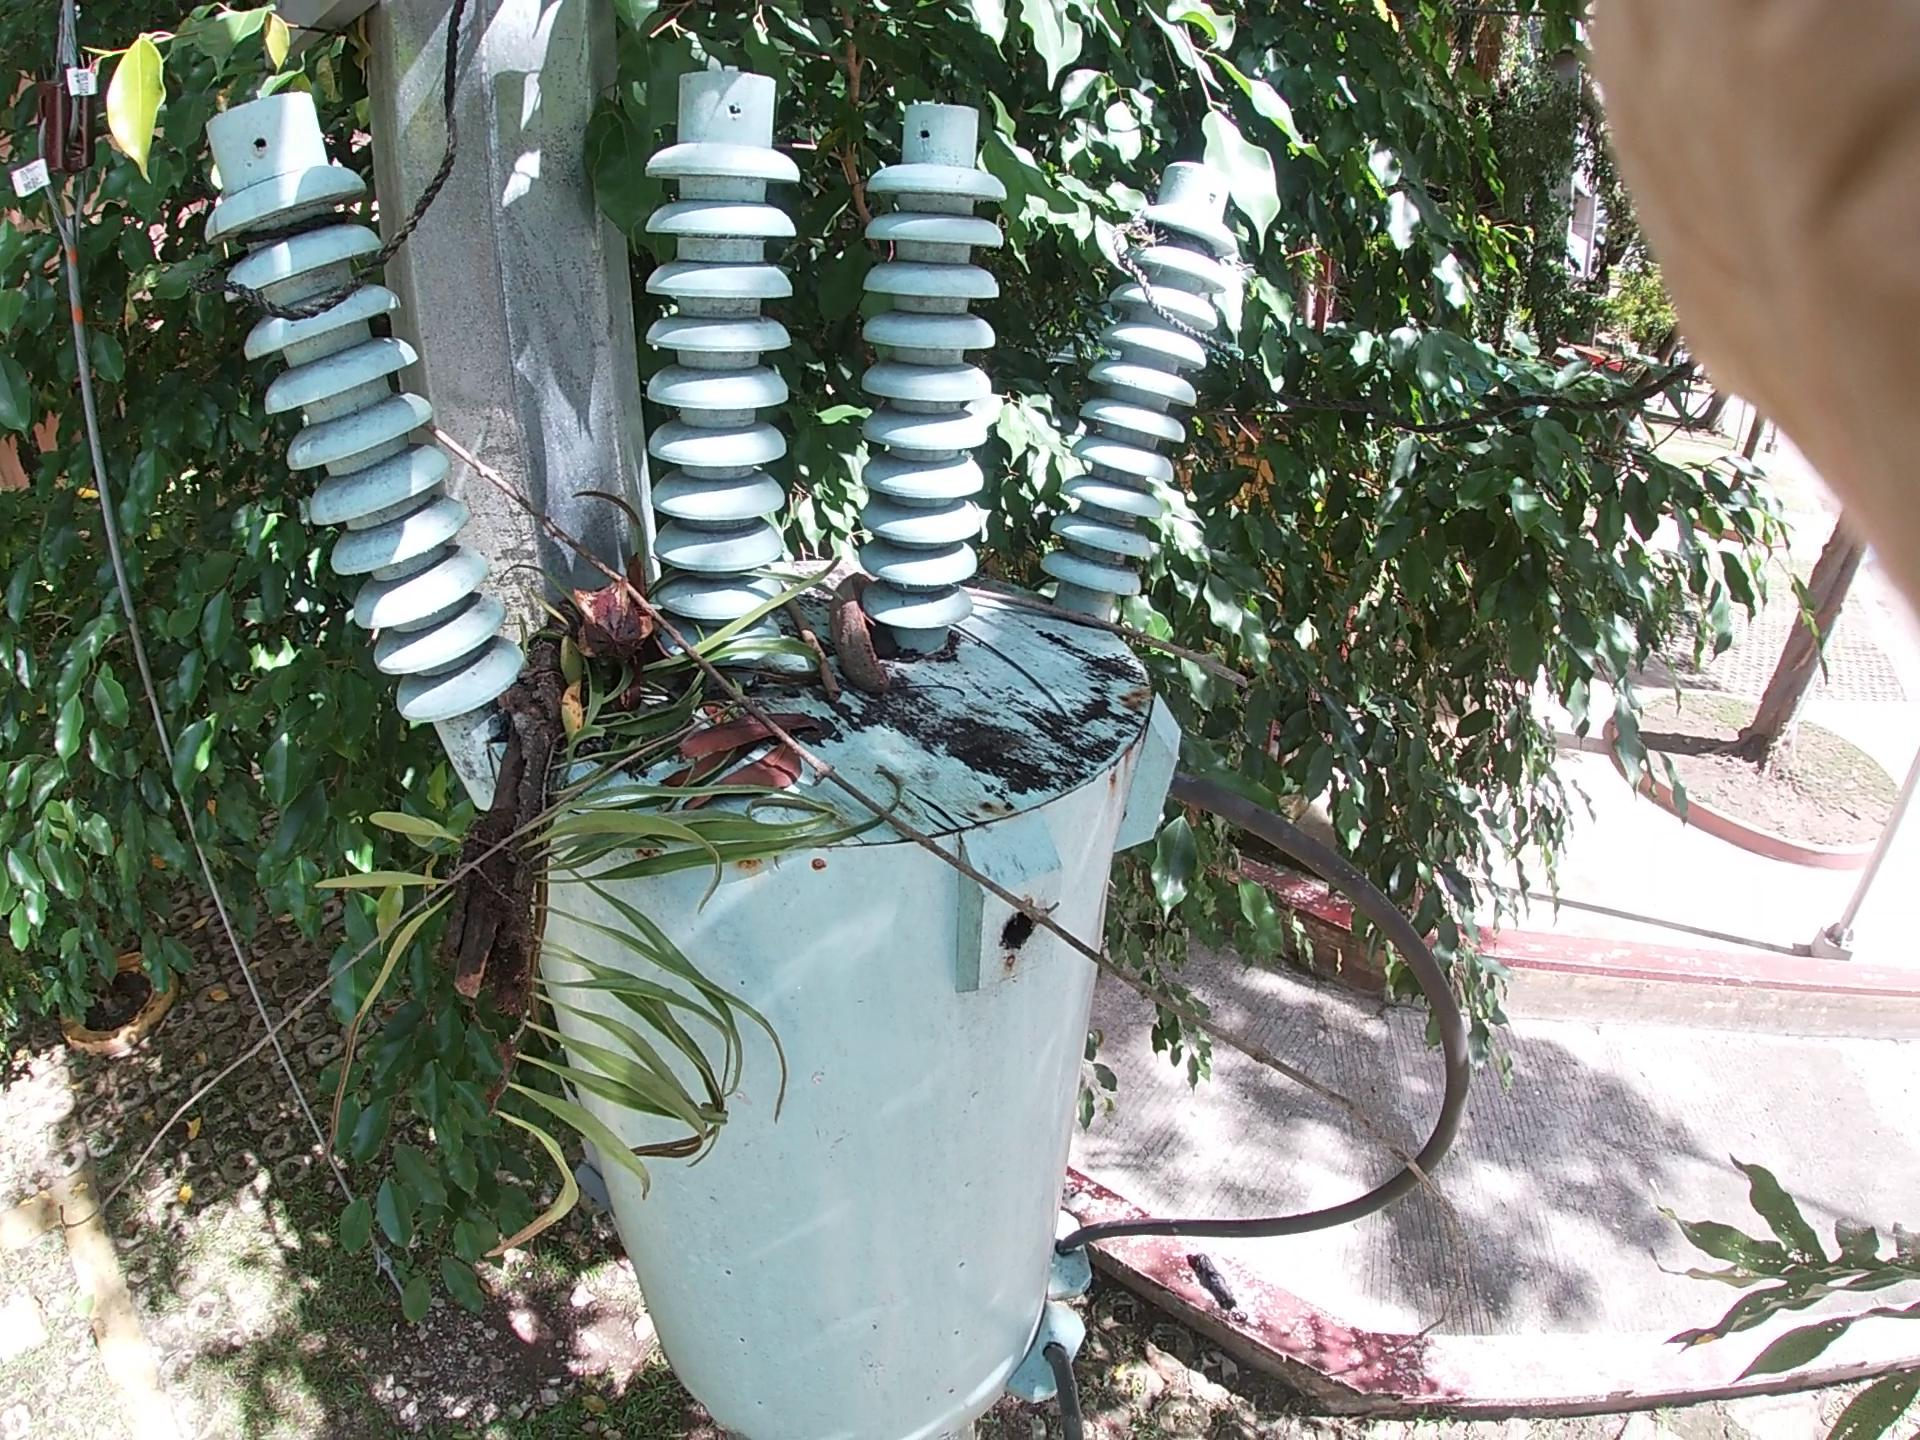branch with leaves: (113, 484, 869, 1274)
leaf: (239, 20, 1332, 532)
mahogany fruit: (561, 569, 721, 782), (791, 531, 909, 715)
tree branch: (367, 352, 1460, 1234), (915, 537, 1284, 694), (741, 546, 868, 726)
